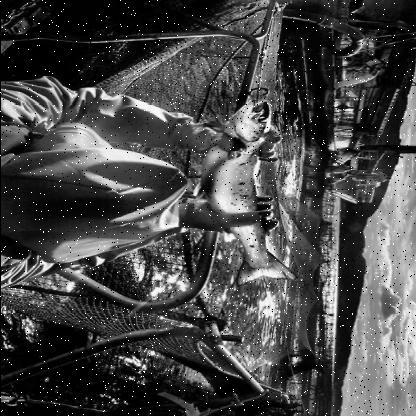fish: (193, 98, 301, 286)
